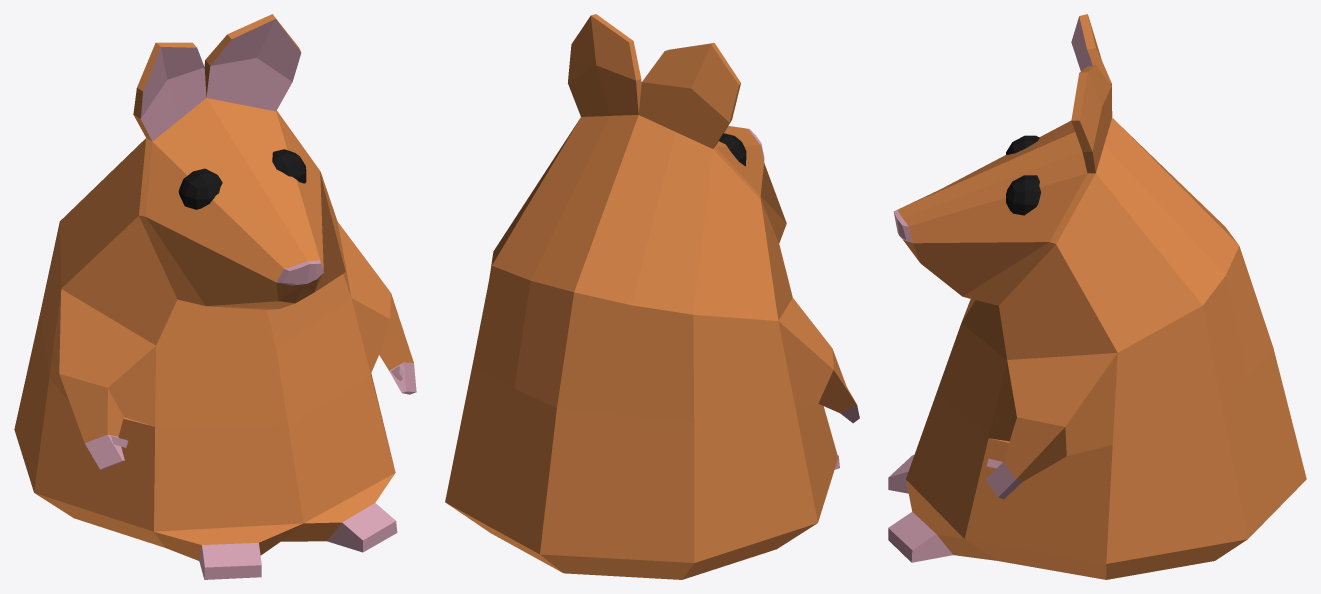
Rendered from Hamster_01.fbx.
The picture shows the model from 3 angles, left to right: view 1: azimuth 30°, elevation 25°; view 2: azimuth 150°, elevation 25°; view 3: azimuth 270°, elevation 25°; orthographic projection. The views are drawn at different scales.
Parts seen in each view (by area): view 1: Hamster_01; view 2: Hamster_01; view 3: Hamster_01.
Boxes of the visible parts, x1,y1,x2,y2 form: Hamster_01: (14, 14, 416, 579); Hamster_01: (445, 14, 859, 579); Hamster_01: (888, 14, 1306, 579).
Bounding box in the file's own units: 4.44 × 5.76 × 4.63.
